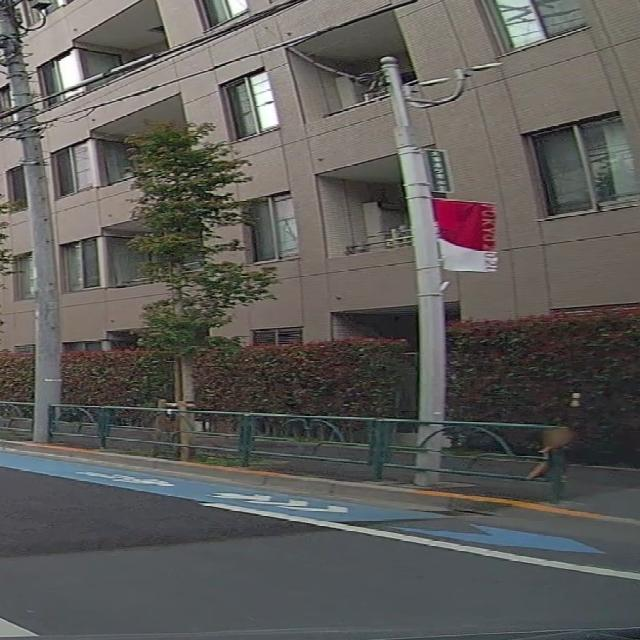maple: (122, 117, 286, 458)
